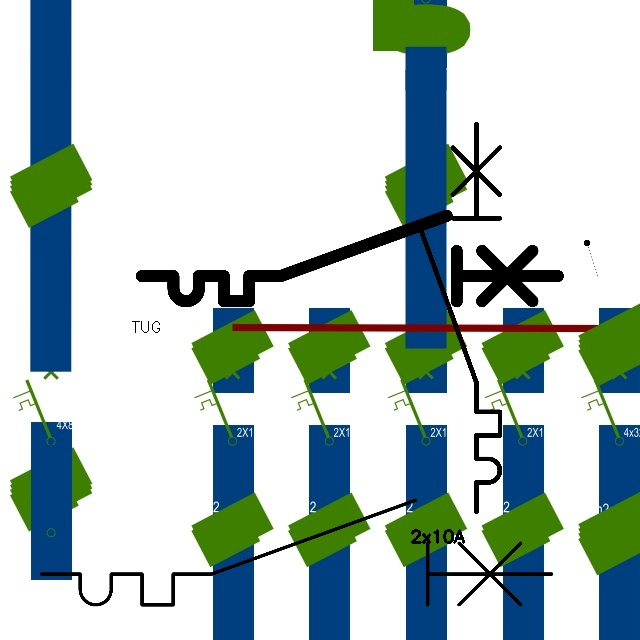interruptor_termomagnetico: (28, 487, 565, 618), (131, 205, 568, 312), (410, 114, 510, 522)
